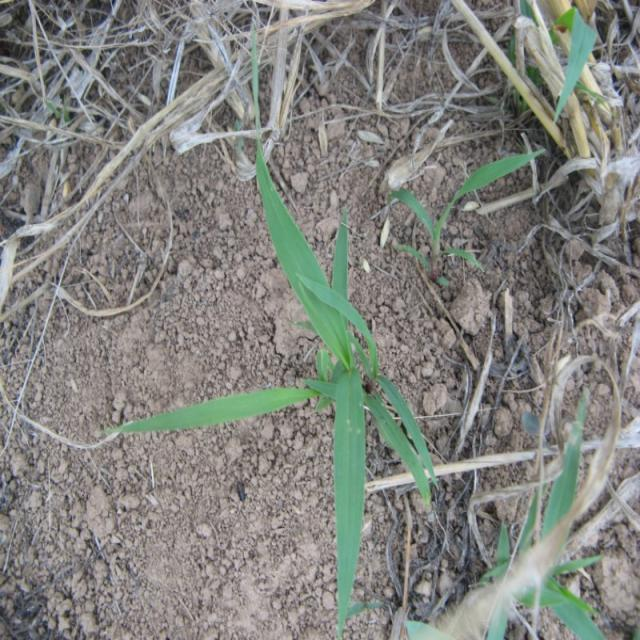bg: (115, 116, 439, 618)
